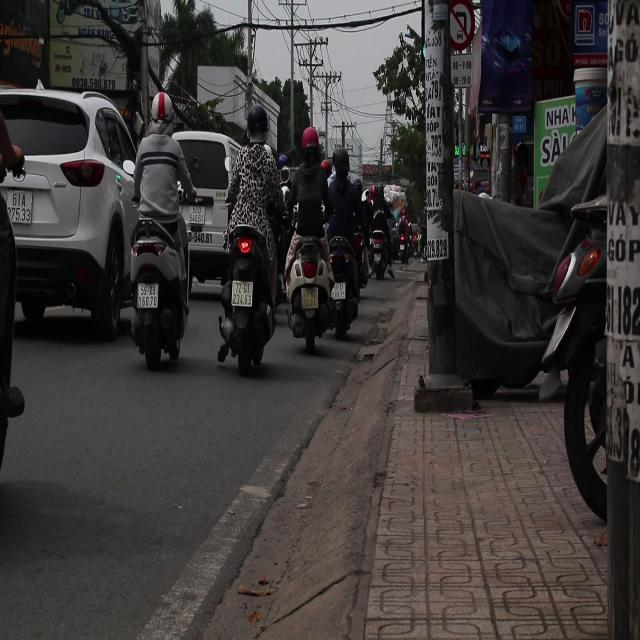car: (2, 87, 140, 344), (172, 132, 239, 292)
motorbike: (126, 119, 196, 369), (216, 223, 279, 375), (282, 225, 337, 358), (323, 206, 358, 334), (364, 218, 394, 282)
